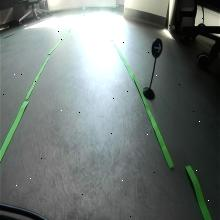right: (151, 37, 164, 59)
